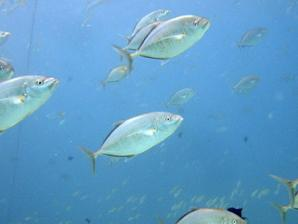Carangidae -Jacks-: (75, 104, 187, 176), (111, 7, 213, 75), (0, 75, 65, 143), (266, 126, 298, 209), (151, 201, 251, 224), (0, 23, 14, 60)
